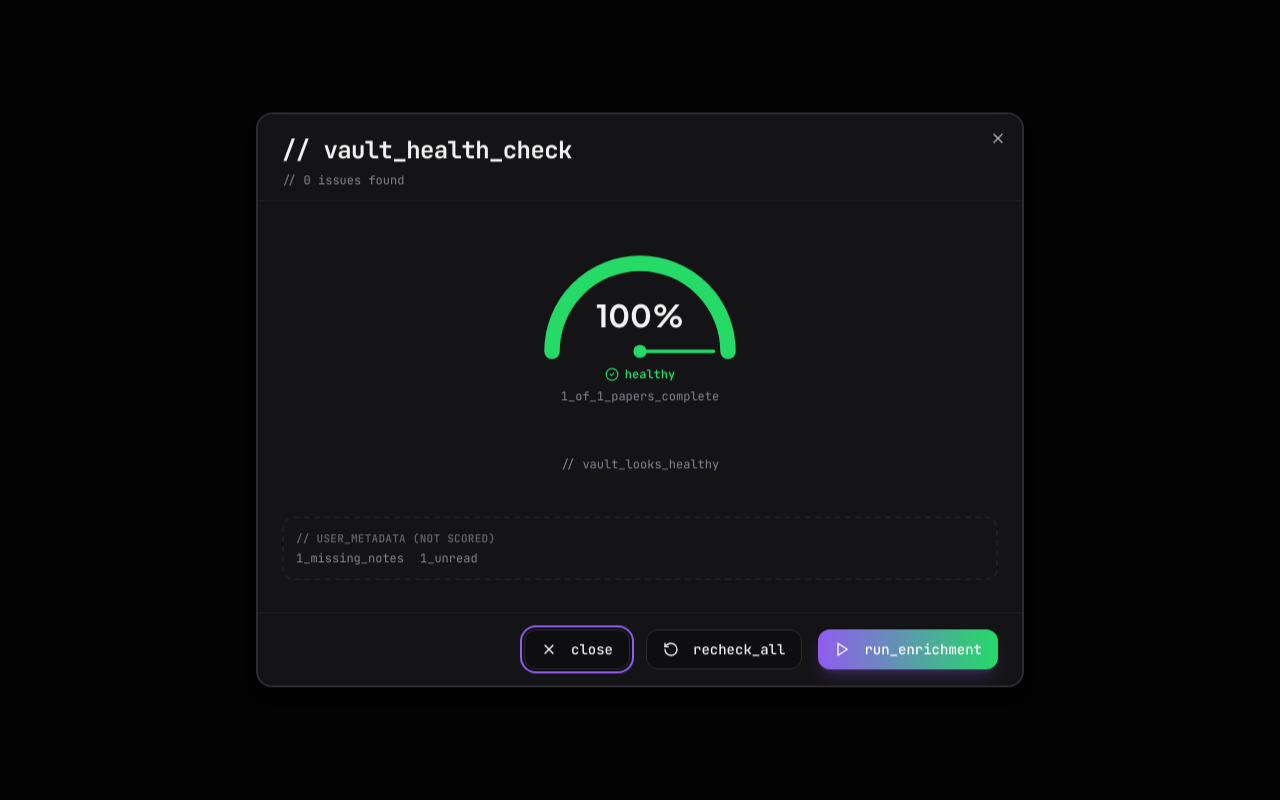
Scenario: VaultHealthCheckDialog › surfaces failed lookups instead of silently reporting "no changes found"
Click the button "run_enrichment" at point(908, 650), box top-left (818, 630), bottom-right (998, 670)
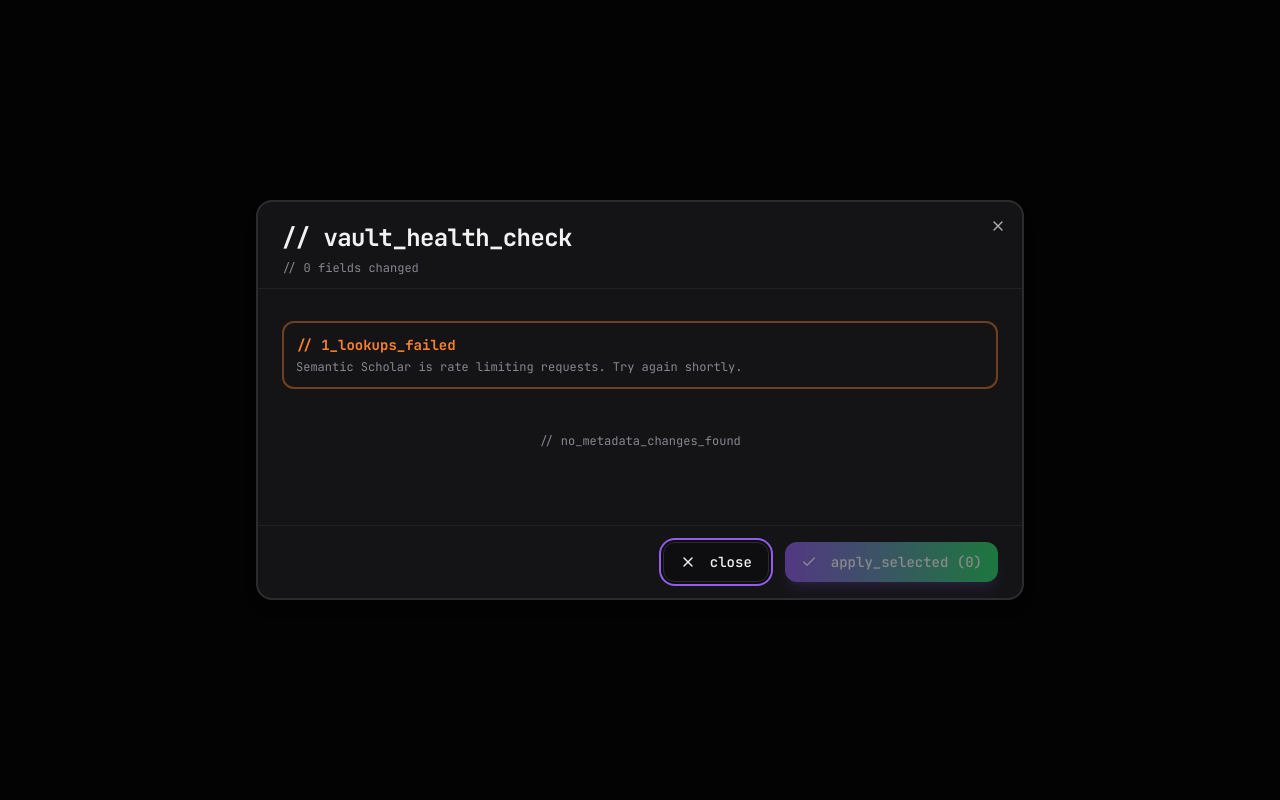
Check: the text "// 1_lookups_failed" is shown, box top-left (296, 336), bottom-right (456, 354)
Check: the text "Semantic Scholar is rate limiting requests. Try again shortly." is shown, box top-left (296, 359), bottom-right (742, 375)
Check: the text "// no_metadata_changes_found" is shown, box top-left (539, 433), bottom-right (741, 449)
